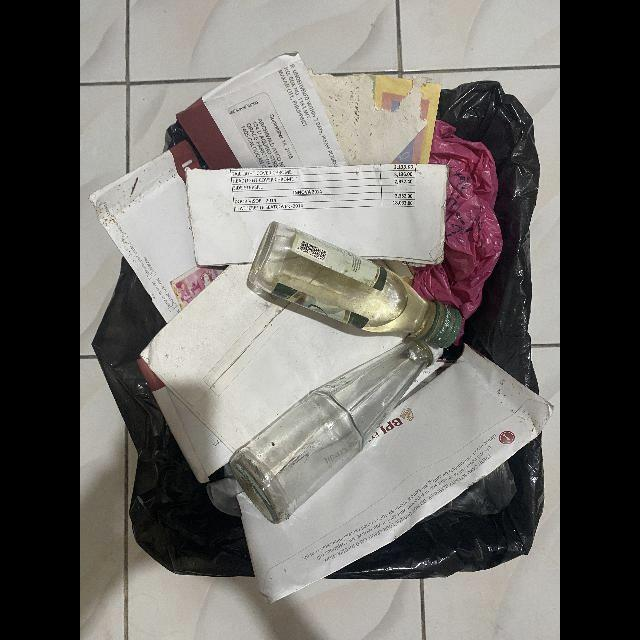glass_bottle: (229, 338, 446, 525), (248, 222, 465, 349)
paper: (237, 346, 551, 603), (138, 263, 402, 485), (184, 164, 449, 269), (89, 140, 223, 324), (176, 52, 347, 171), (310, 72, 442, 168)
plastic_bag: (404, 120, 503, 347)
